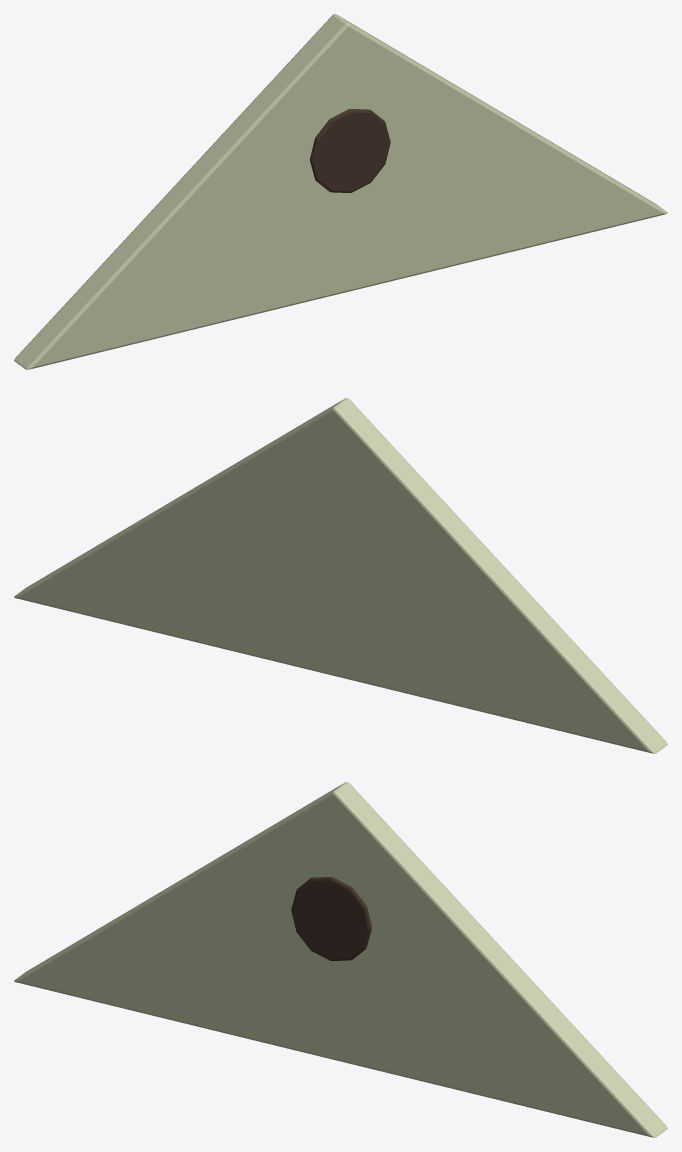
File: gable_end_4m__finish.glb
3 renders of one model, top to bottom at view 1: azimuth 30°, elevation 25°; view 2: azimuth 150°, elevation 25°; view 3: azimuth 330°, elevation 25°, orthographic.
Parts seen in each view (by area): view 1: gable_end_4m__finish__mesh_00; view 2: gable_end_4m__finish__mesh_00; view 3: gable_end_4m__finish__mesh_00.
Boxes of the visible parts, box(x1,y1,x2,y2) form: gable_end_4m__finish__mesh_00: box(14, 14, 667, 369); gable_end_4m__finish__mesh_00: box(14, 398, 667, 753); gable_end_4m__finish__mesh_00: box(14, 782, 667, 1137).
Bounding box in the file's own units: 3.98 × 1.59 × 0.195.
